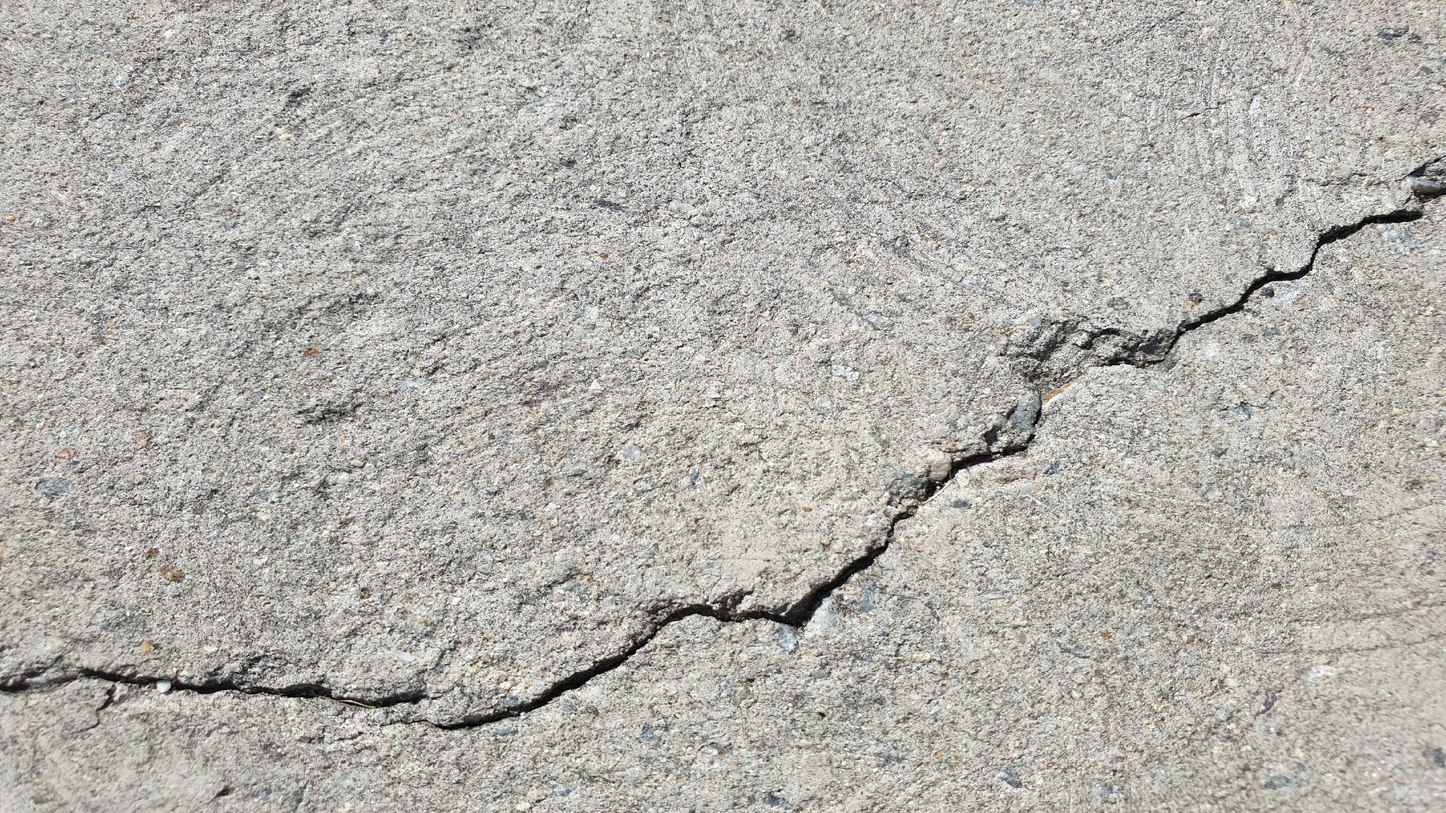crack: (395, 198, 1435, 732), (9, 668, 426, 712)
